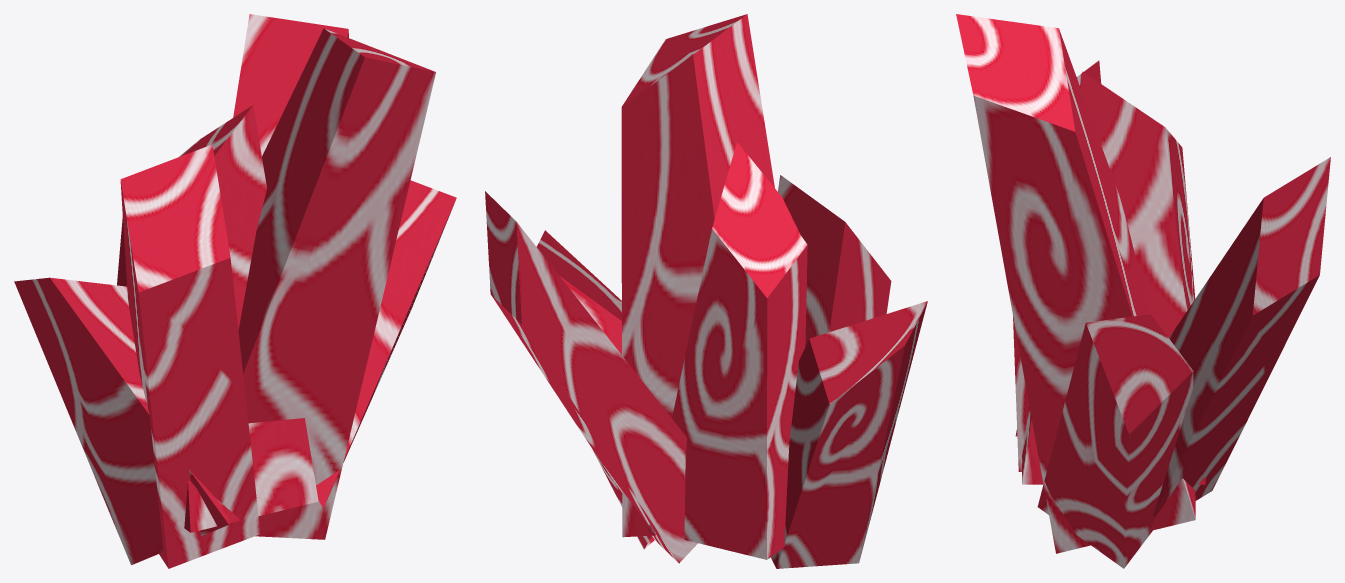
File: Crystals_01.fbx
3 views of the same model, side by side, from view 1: azimuth 30°, elevation 25°; view 2: azimuth 150°, elevation 25°; view 3: azimuth 270°, elevation 25° (orthographic). The views are drawn at different scales.
Parts seen in each view (by area): view 1: Crystal8; view 2: Crystal8; view 3: Crystal8.
Boxes of the visible parts, x1,y1,x2,y2 form: Crystal8: (14, 14, 456, 568); Crystal8: (485, 14, 927, 568); Crystal8: (956, 14, 1330, 568).
Bounding box in the file's own units: 3.12 × 3.77 × 2.37.
Materials: 1 (1 with a texture image).
